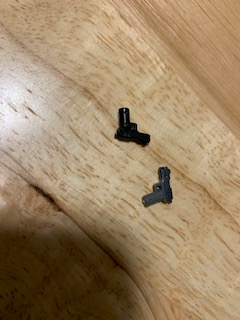pistol: (113, 106, 153, 151), (141, 165, 176, 214)
